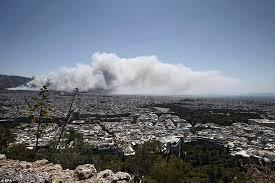yanwu: (7, 45, 261, 95)
